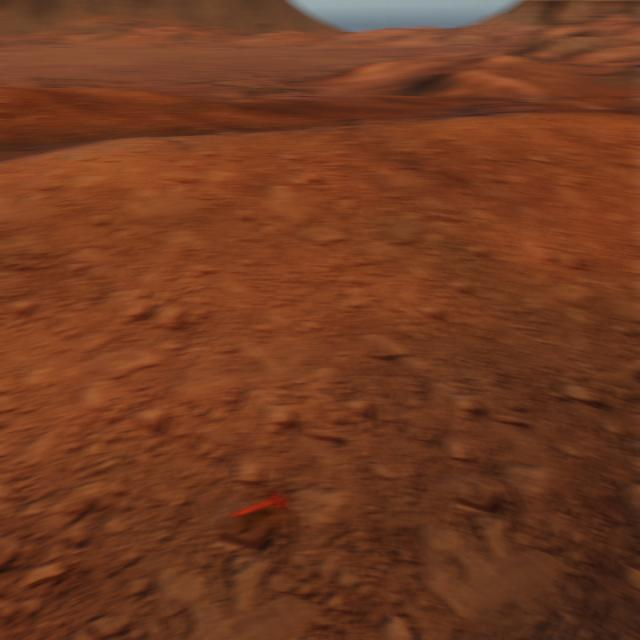newhammer: (233, 490, 285, 519)
